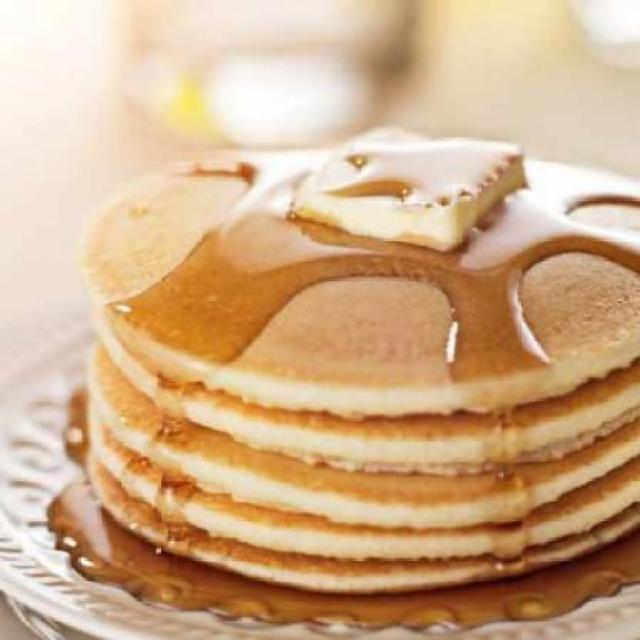Pancake: (84, 145, 638, 421)
